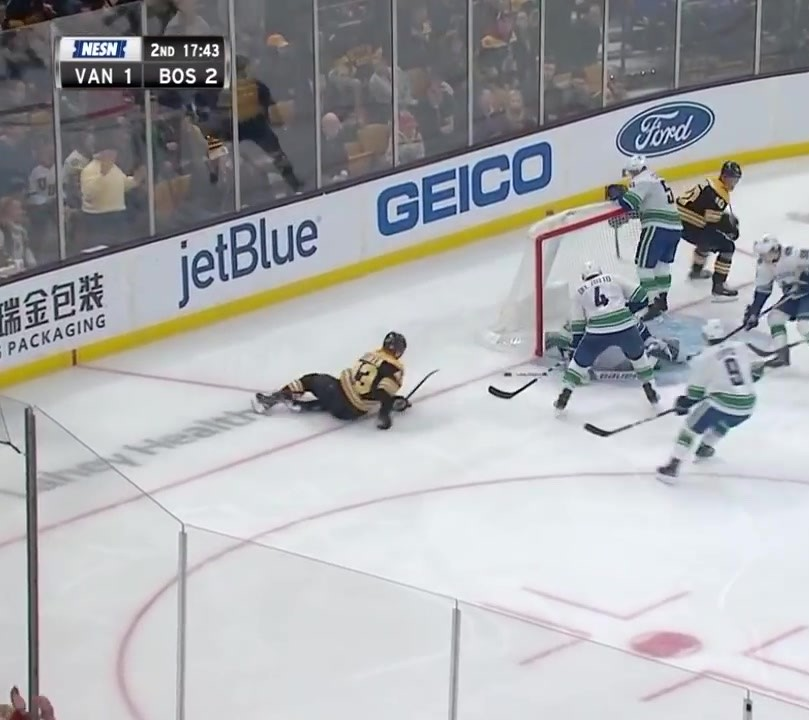Geico: (372, 140, 556, 249)
